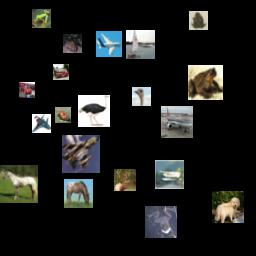airplane: (62, 135, 100, 173), (161, 106, 193, 138), (155, 160, 184, 189), (96, 31, 122, 57), (32, 114, 51, 133)
automobile: (19, 82, 35, 98)
bird: (78, 95, 110, 127), (132, 87, 151, 106)
deer: (114, 169, 136, 191)
dog: (212, 191, 244, 223)
frog: (188, 65, 223, 100), (145, 206, 177, 238), (189, 11, 208, 30), (32, 9, 51, 28), (63, 34, 82, 53)
ship: (126, 30, 155, 59), (55, 107, 71, 123)
truck: (53, 64, 69, 80)
